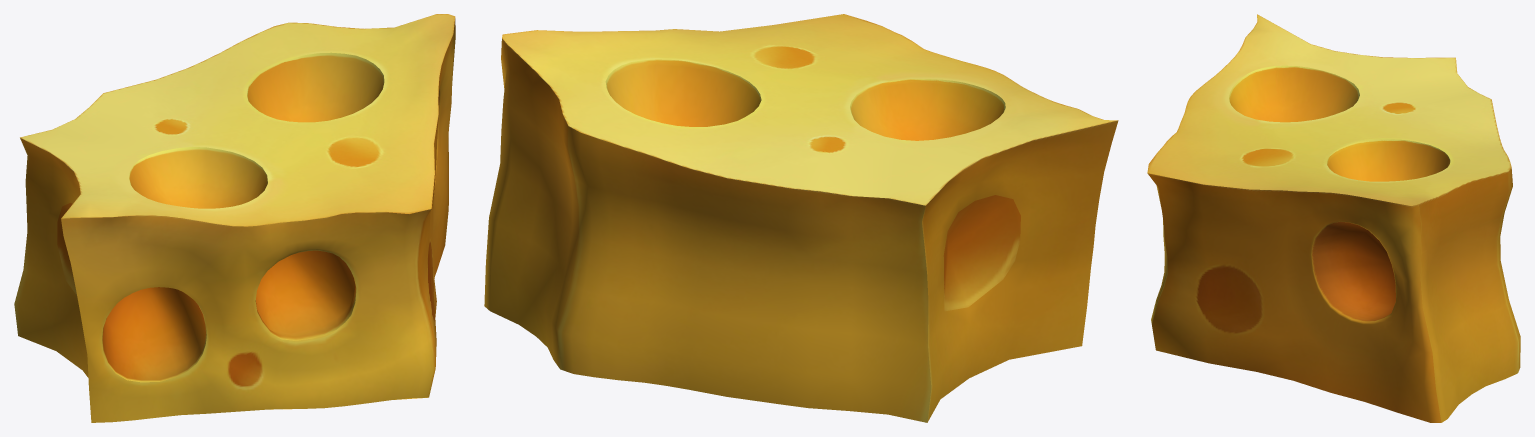
Rendered from 新字教学-第4课场景-汉字鼠-奶酪.FBX.
3 renders of one model, left to right at view 1: azimuth 30°, elevation 25°; view 2: azimuth 150°, elevation 25°; view 3: azimuth 270°, elevation 25°, orthographic. The views are drawn at different scales.
Parts seen in each view (by area): view 1: 新字教学-第4课场景-汉字鼠-奶酪; view 2: 新字教学-第4课场景-汉字鼠-奶酪; view 3: 新字教学-第4课场景-汉字鼠-奶酪.
Boxes of the visible parts, bbox=[...] form: 新字教学-第4课场景-汉字鼠-奶酪: bbox=[14, 14, 455, 422]; 新字教学-第4课场景-汉字鼠-奶酪: bbox=[484, 14, 1118, 422]; 新字教学-第4课场景-汉字鼠-奶酪: bbox=[1147, 14, 1520, 422].
Bounding box in the file's own units: 390 × 185 × 286.
1 material, 1 textured.
